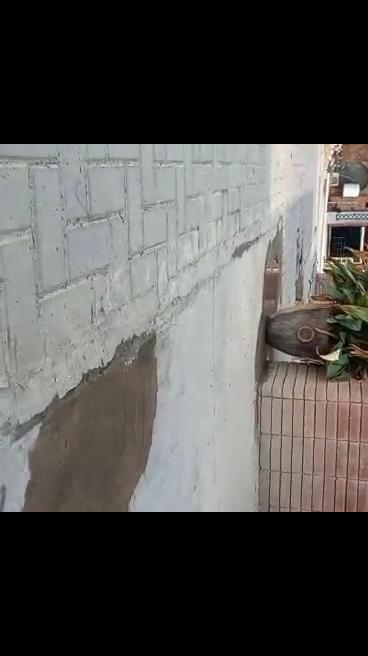water accumulation: (21, 334, 161, 512), (255, 230, 282, 381)
